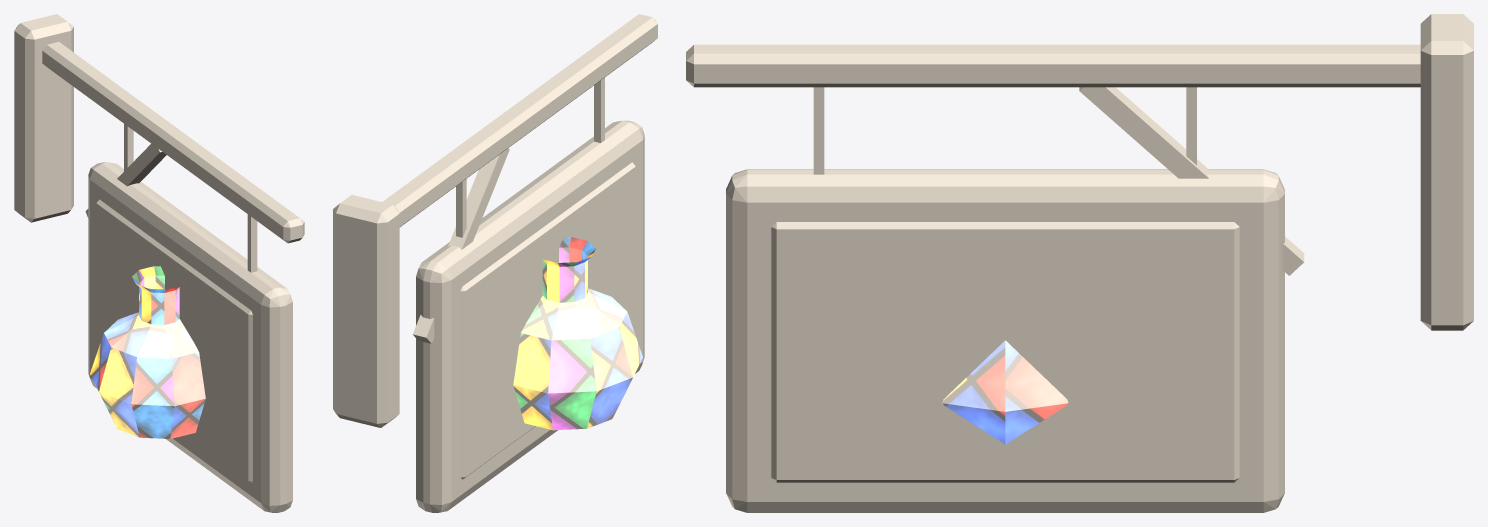
File: SM_VK_Sign_Potion.fbx
The picture shows the model from 3 angles, left to right: view 1: azimuth 30°, elevation 25°; view 2: azimuth 150°, elevation 25°; view 3: azimuth 270°, elevation 25°; orthographic projection. The views are drawn at different scales.
Parts seen in each view (by area): view 1: SM_VK_Sign_Potion.001; view 2: SM_VK_Sign_Potion.001; view 3: SM_VK_Sign_Potion.001.
Boxes of the visible parts, x1,y1,x2,y2 form: SM_VK_Sign_Potion.001: [14, 14, 304, 512]; SM_VK_Sign_Potion.001: [333, 14, 657, 512]; SM_VK_Sign_Potion.001: [686, 14, 1473, 512].
Size of the model in its own units: 0.4 by 1 by 1.48.
